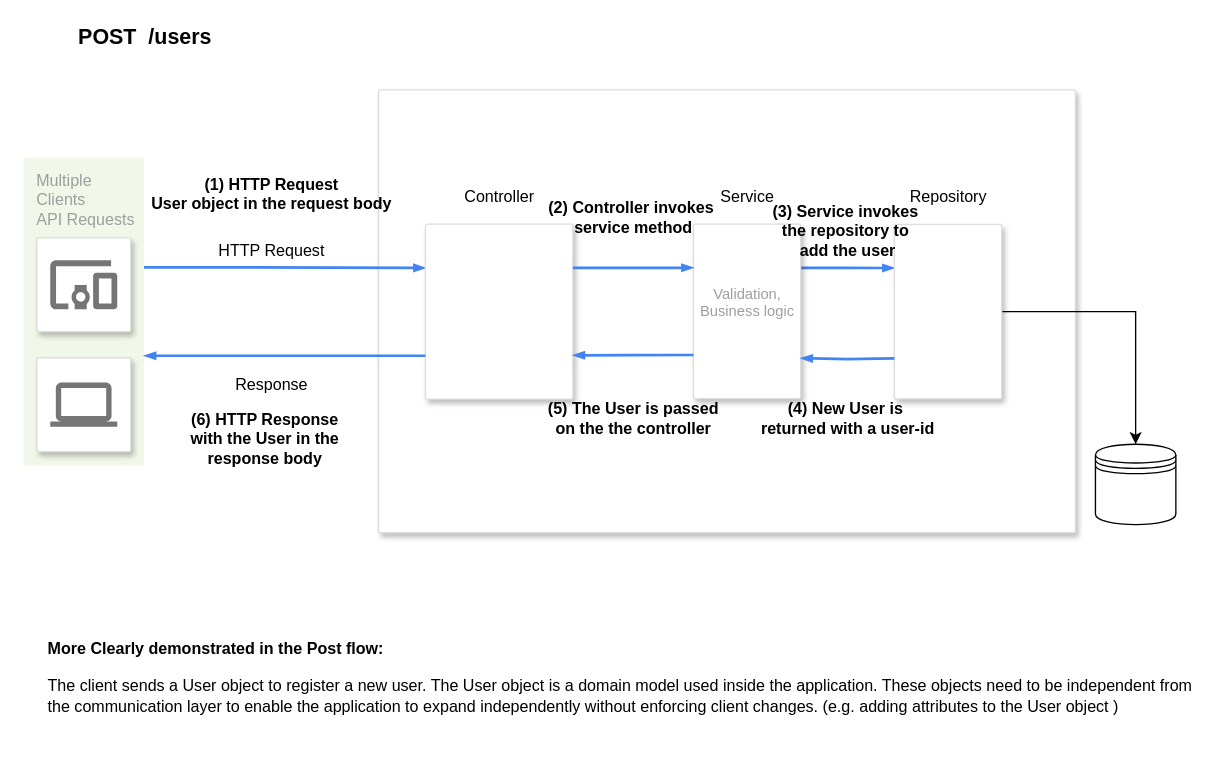
Some shapes in this 1225 by 762 pixel diagram are drawn without their labels. Each missing label, with the centre of its shape:
DB interaction: the point at 949,313
Exposes endpoints Makes basic validations: the point at 500,312
